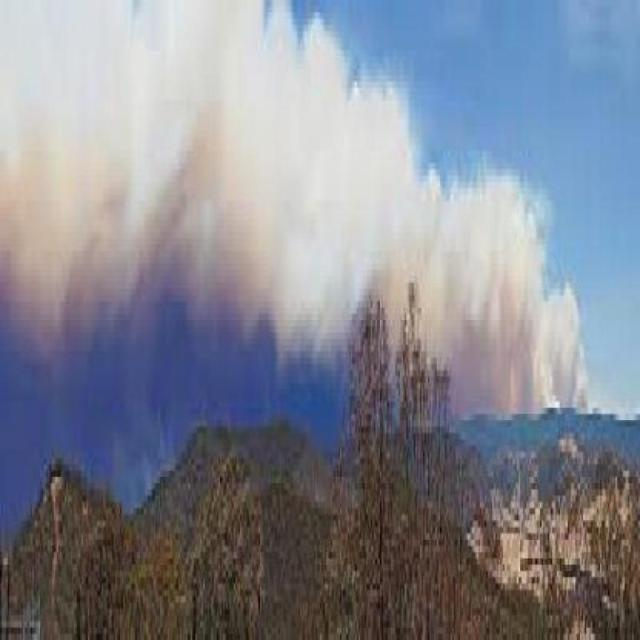Smoke: (0, 0, 610, 420)
